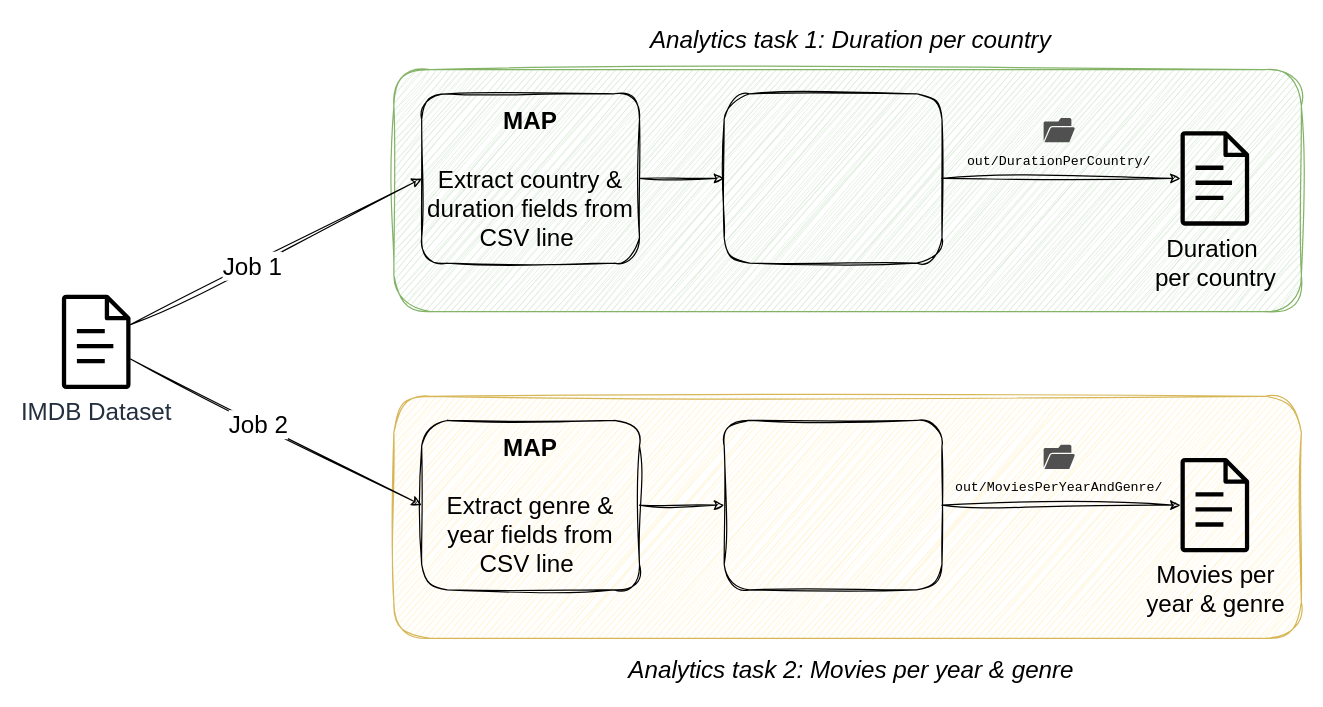
This 1323x707 diagram has some shape labels left out. Each missing label, with the centre of its shape:
"REDUCE Add up durations (value) per country (key)" goes at [832,178].
"REDUCE Add up ones (values) per year_genre (composite key)" goes at [832,504].
